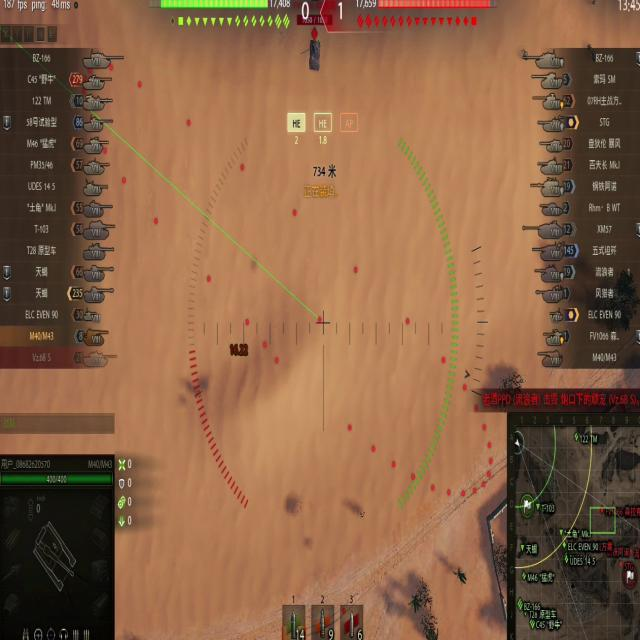tank: (295, 19, 329, 77)
